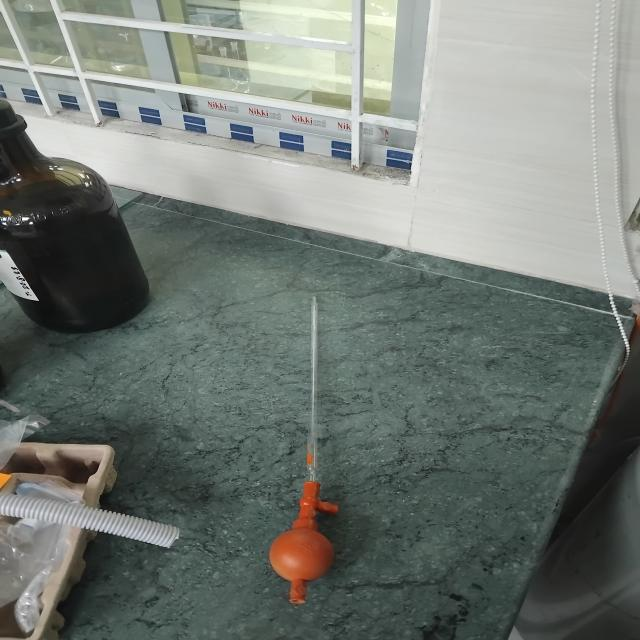Volumetric_Pipet: (228, 275, 394, 621)
